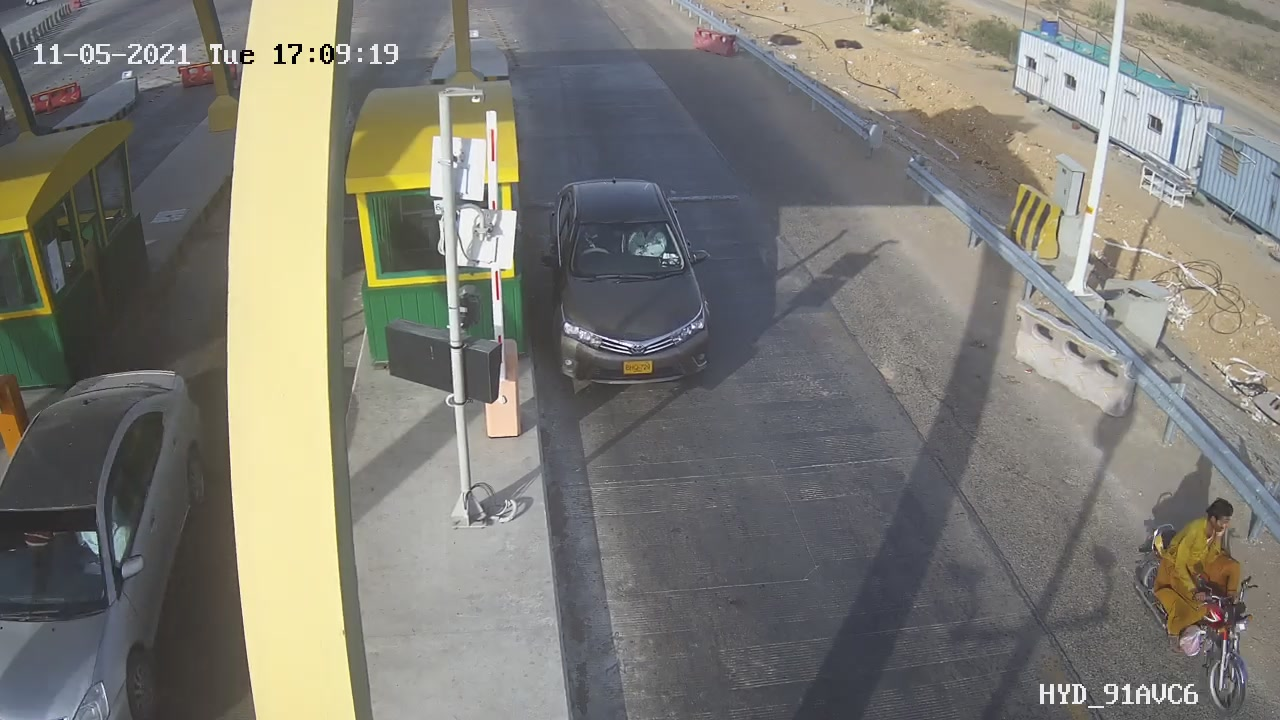F1: (522, 157, 740, 413)
